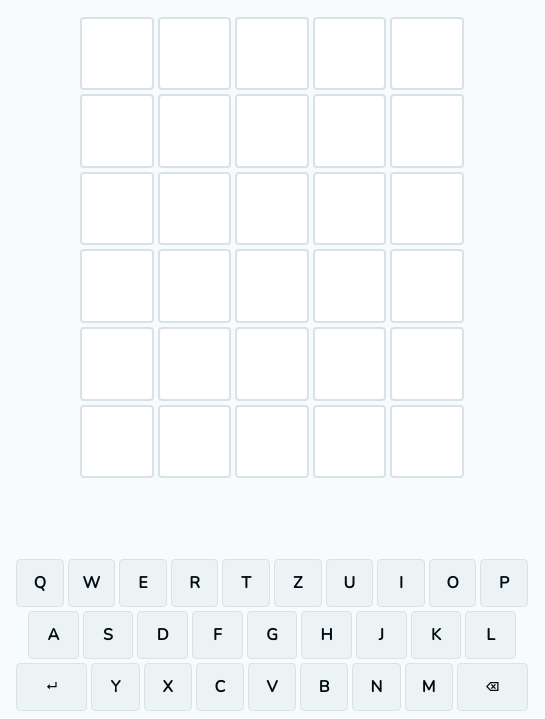
Scenario: WordleGame › appends a typed letter into the first empty cell
Click the button named "Buchstabe A" at [53, 635], box [28,611,79,659]
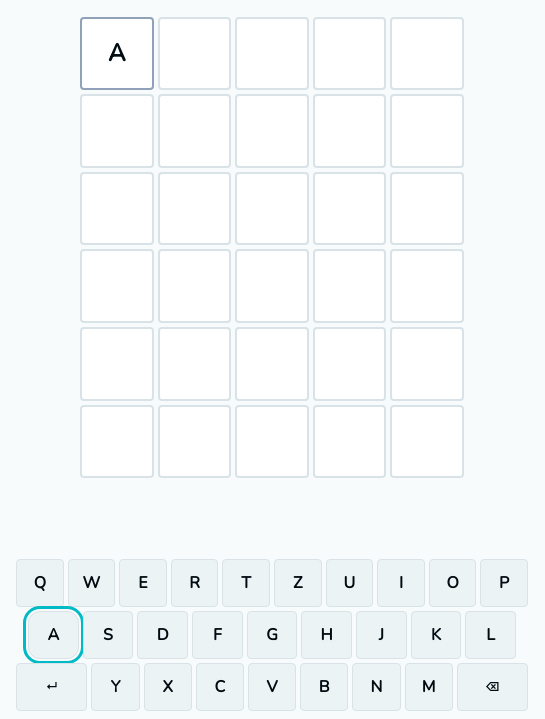
Expected: the picture "A" is shown, [80,17,154,90]
